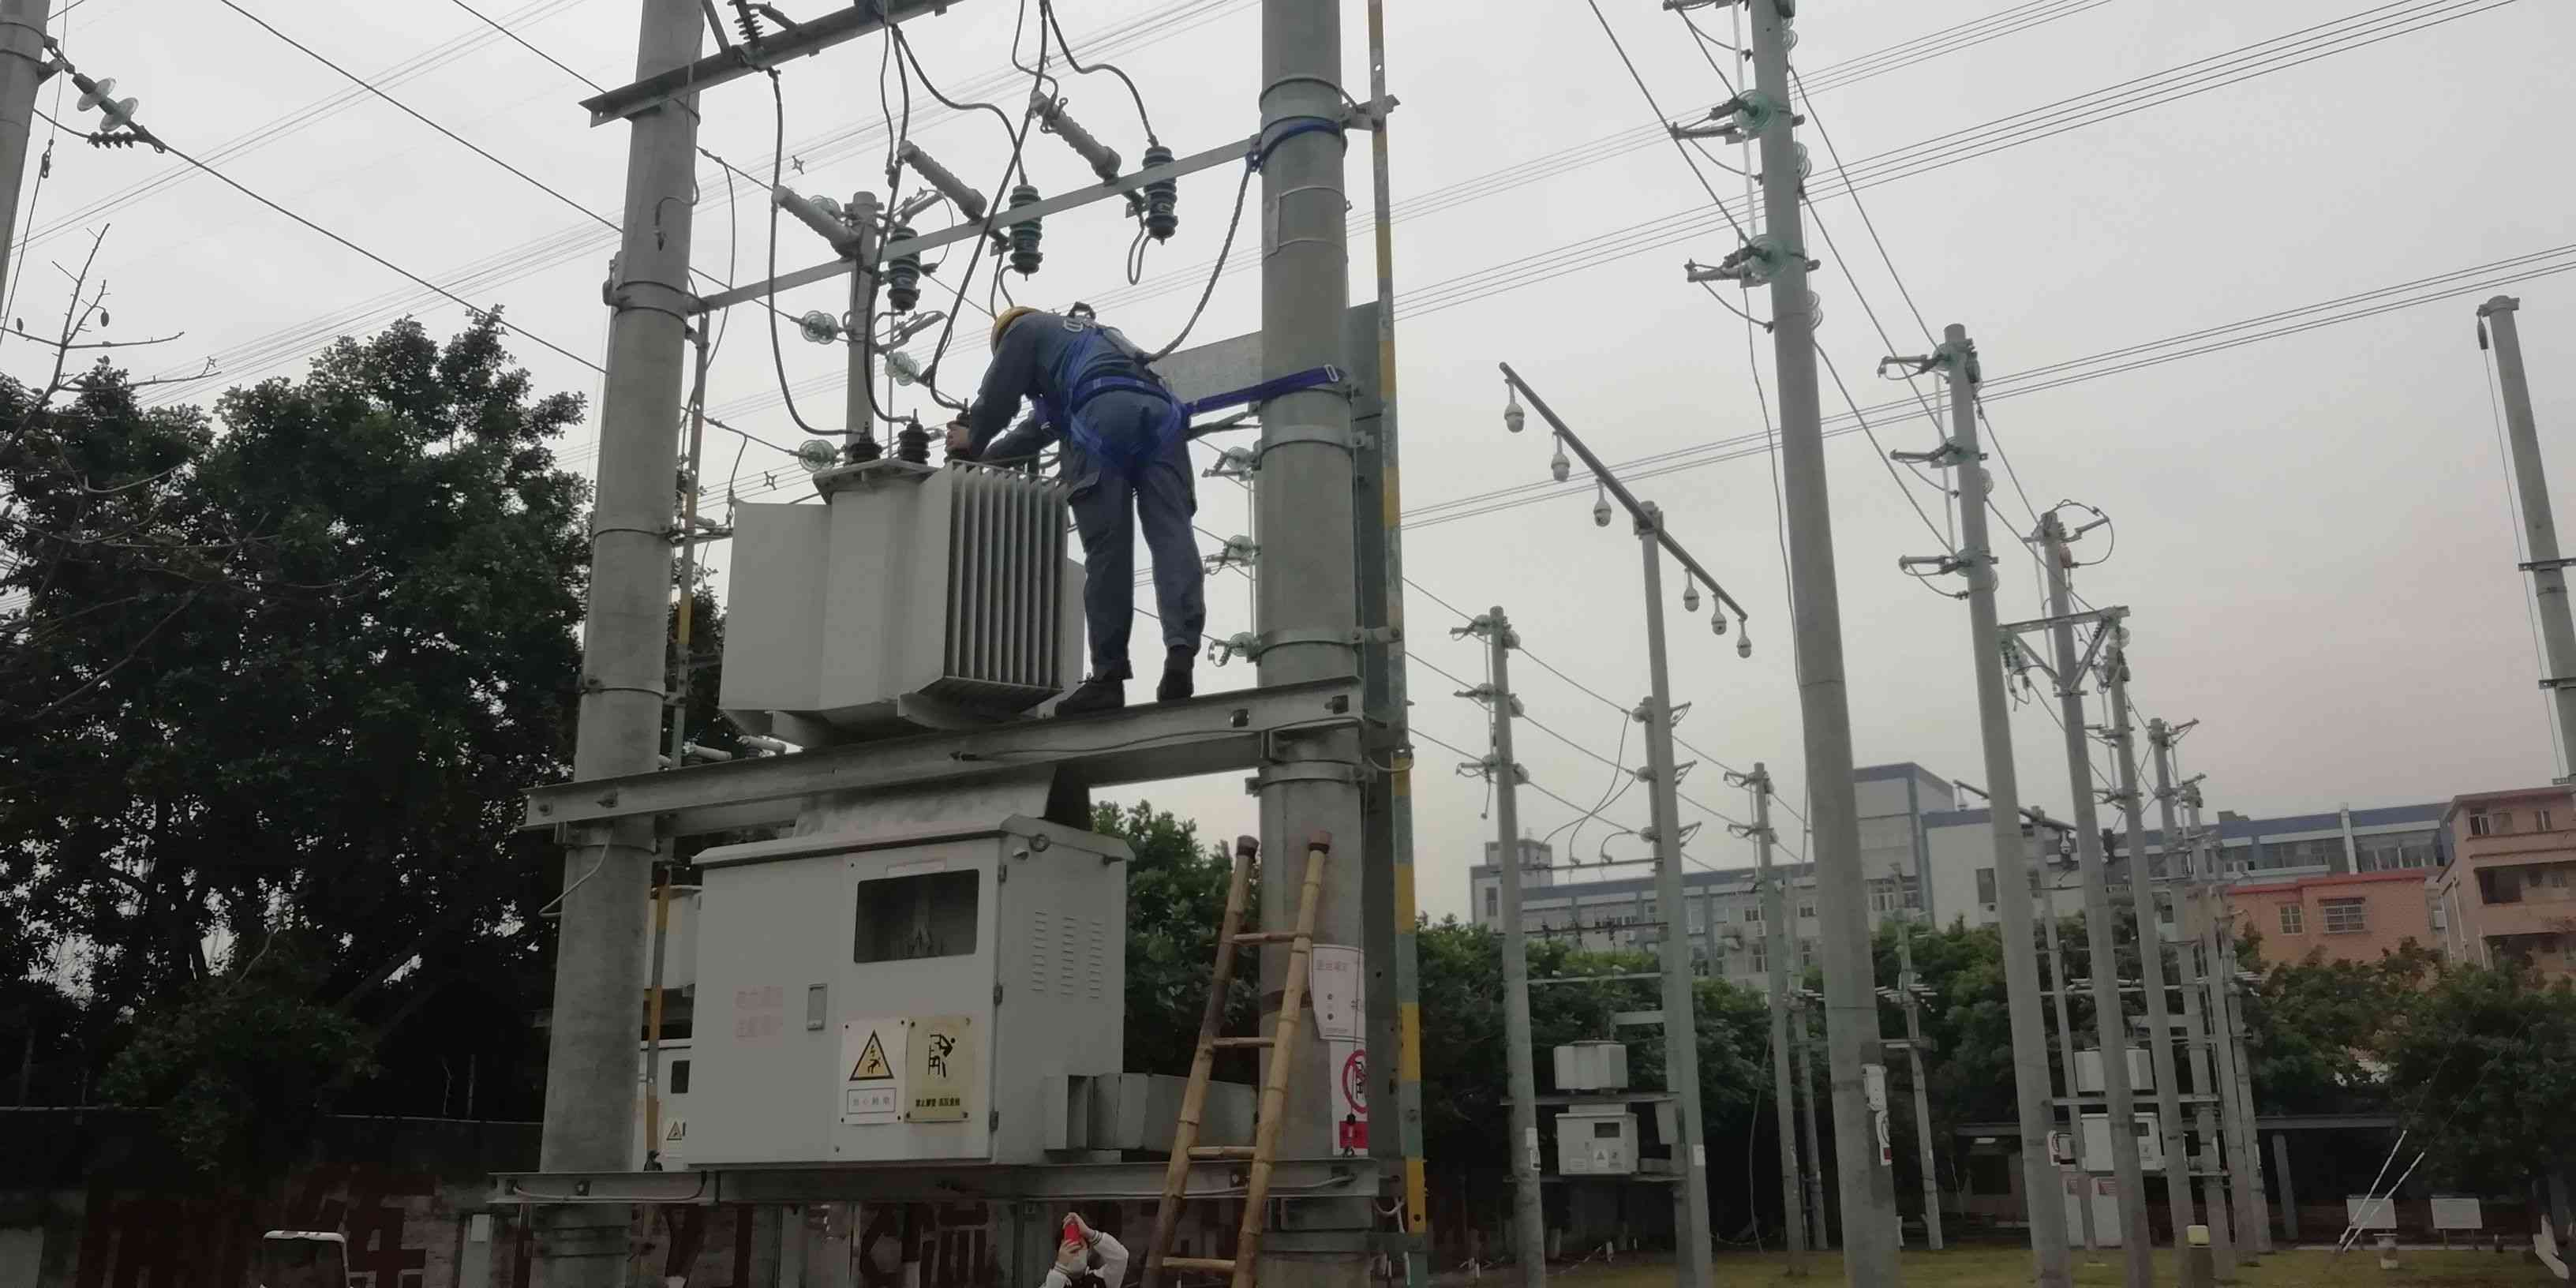downsuit: (1065, 424, 1199, 654)
upsuit: (1010, 317, 1158, 409)
